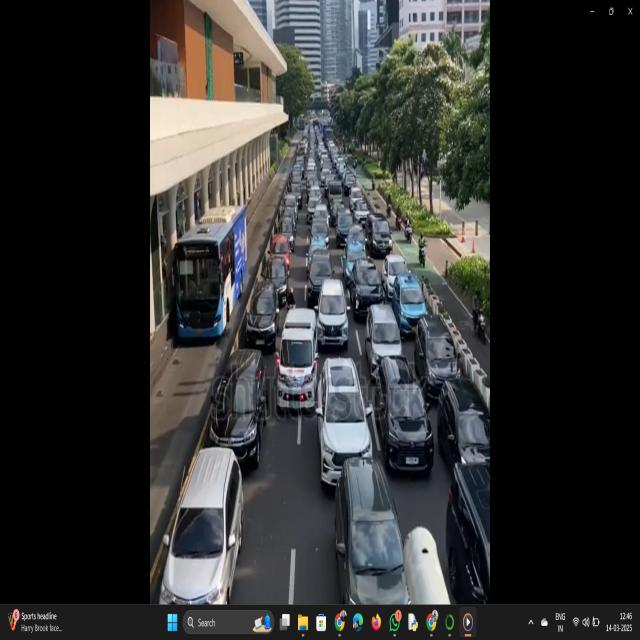Ambulance: (276, 300, 321, 417)
